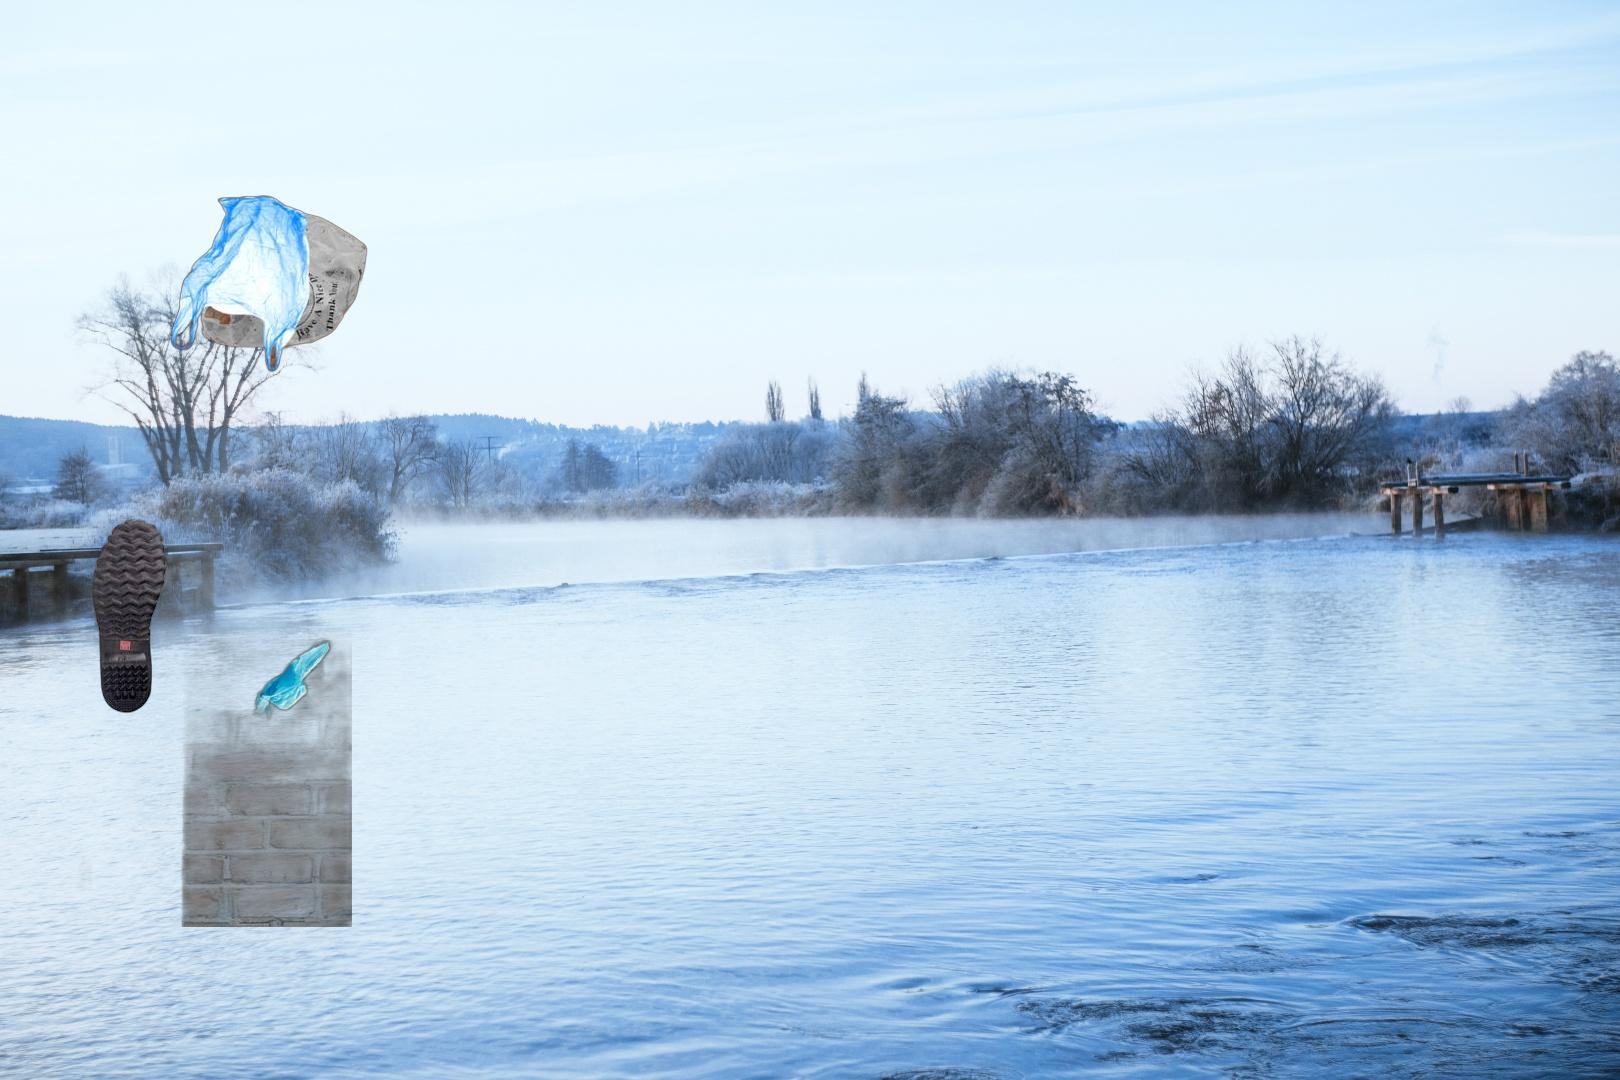plastic-bag: (57, 627, 352, 927), (170, 193, 368, 374)
shoes: (90, 517, 169, 716)
